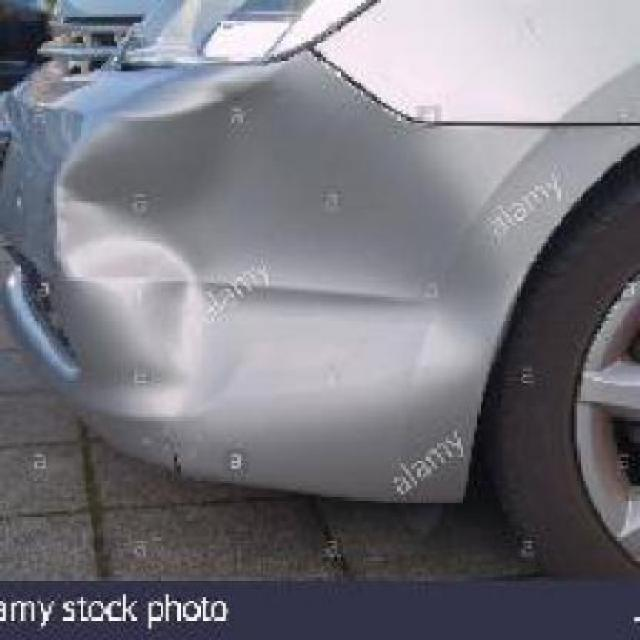dent-or-scratch: (59, 101, 494, 424)
